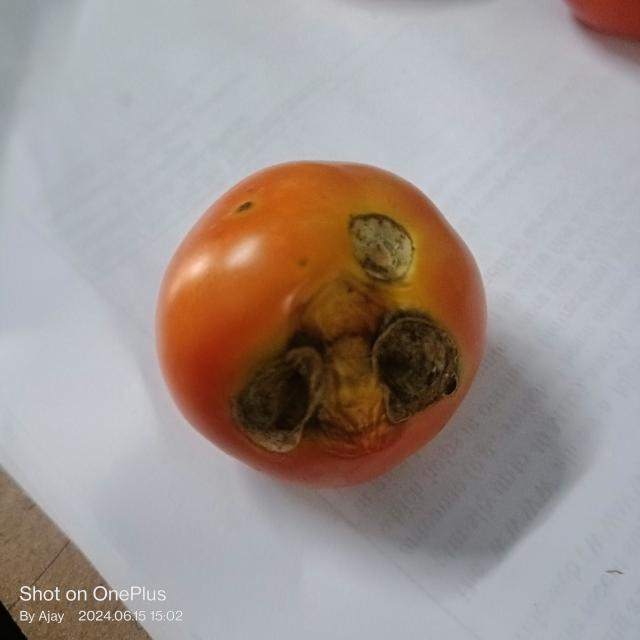fruitworm_bore: (228, 286, 470, 454)
